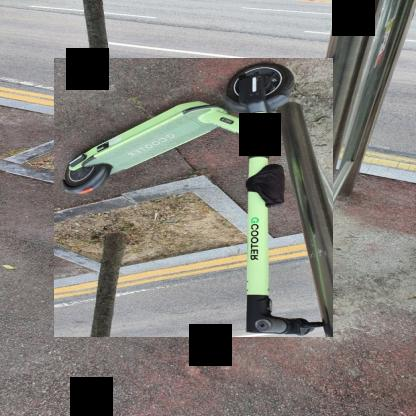kickboard: (54, 58, 333, 337)
